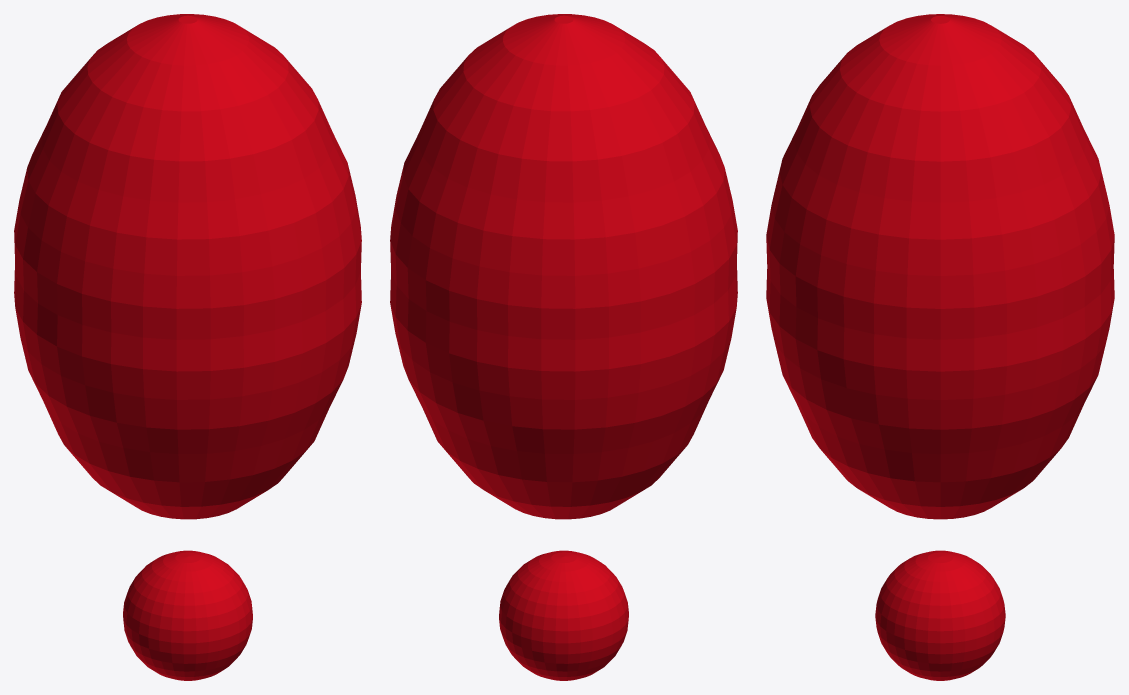
Rendered from Uttropstecken.fbx.
3 views of the same model, side by side, from view 1: azimuth 30°, elevation 25°; view 2: azimuth 150°, elevation 25°; view 3: azimuth 270°, elevation 25° (orthographic).
Visible parts, largest first — view 1: Cone; view 2: Cone; view 3: Cone.
Part boxes in pixels (x1,y1,x2,y2): Cone: (14, 14, 361, 680); Cone: (390, 14, 737, 680); Cone: (766, 14, 1114, 680).
Size of the model in its own units: 227 by 470 by 227.
